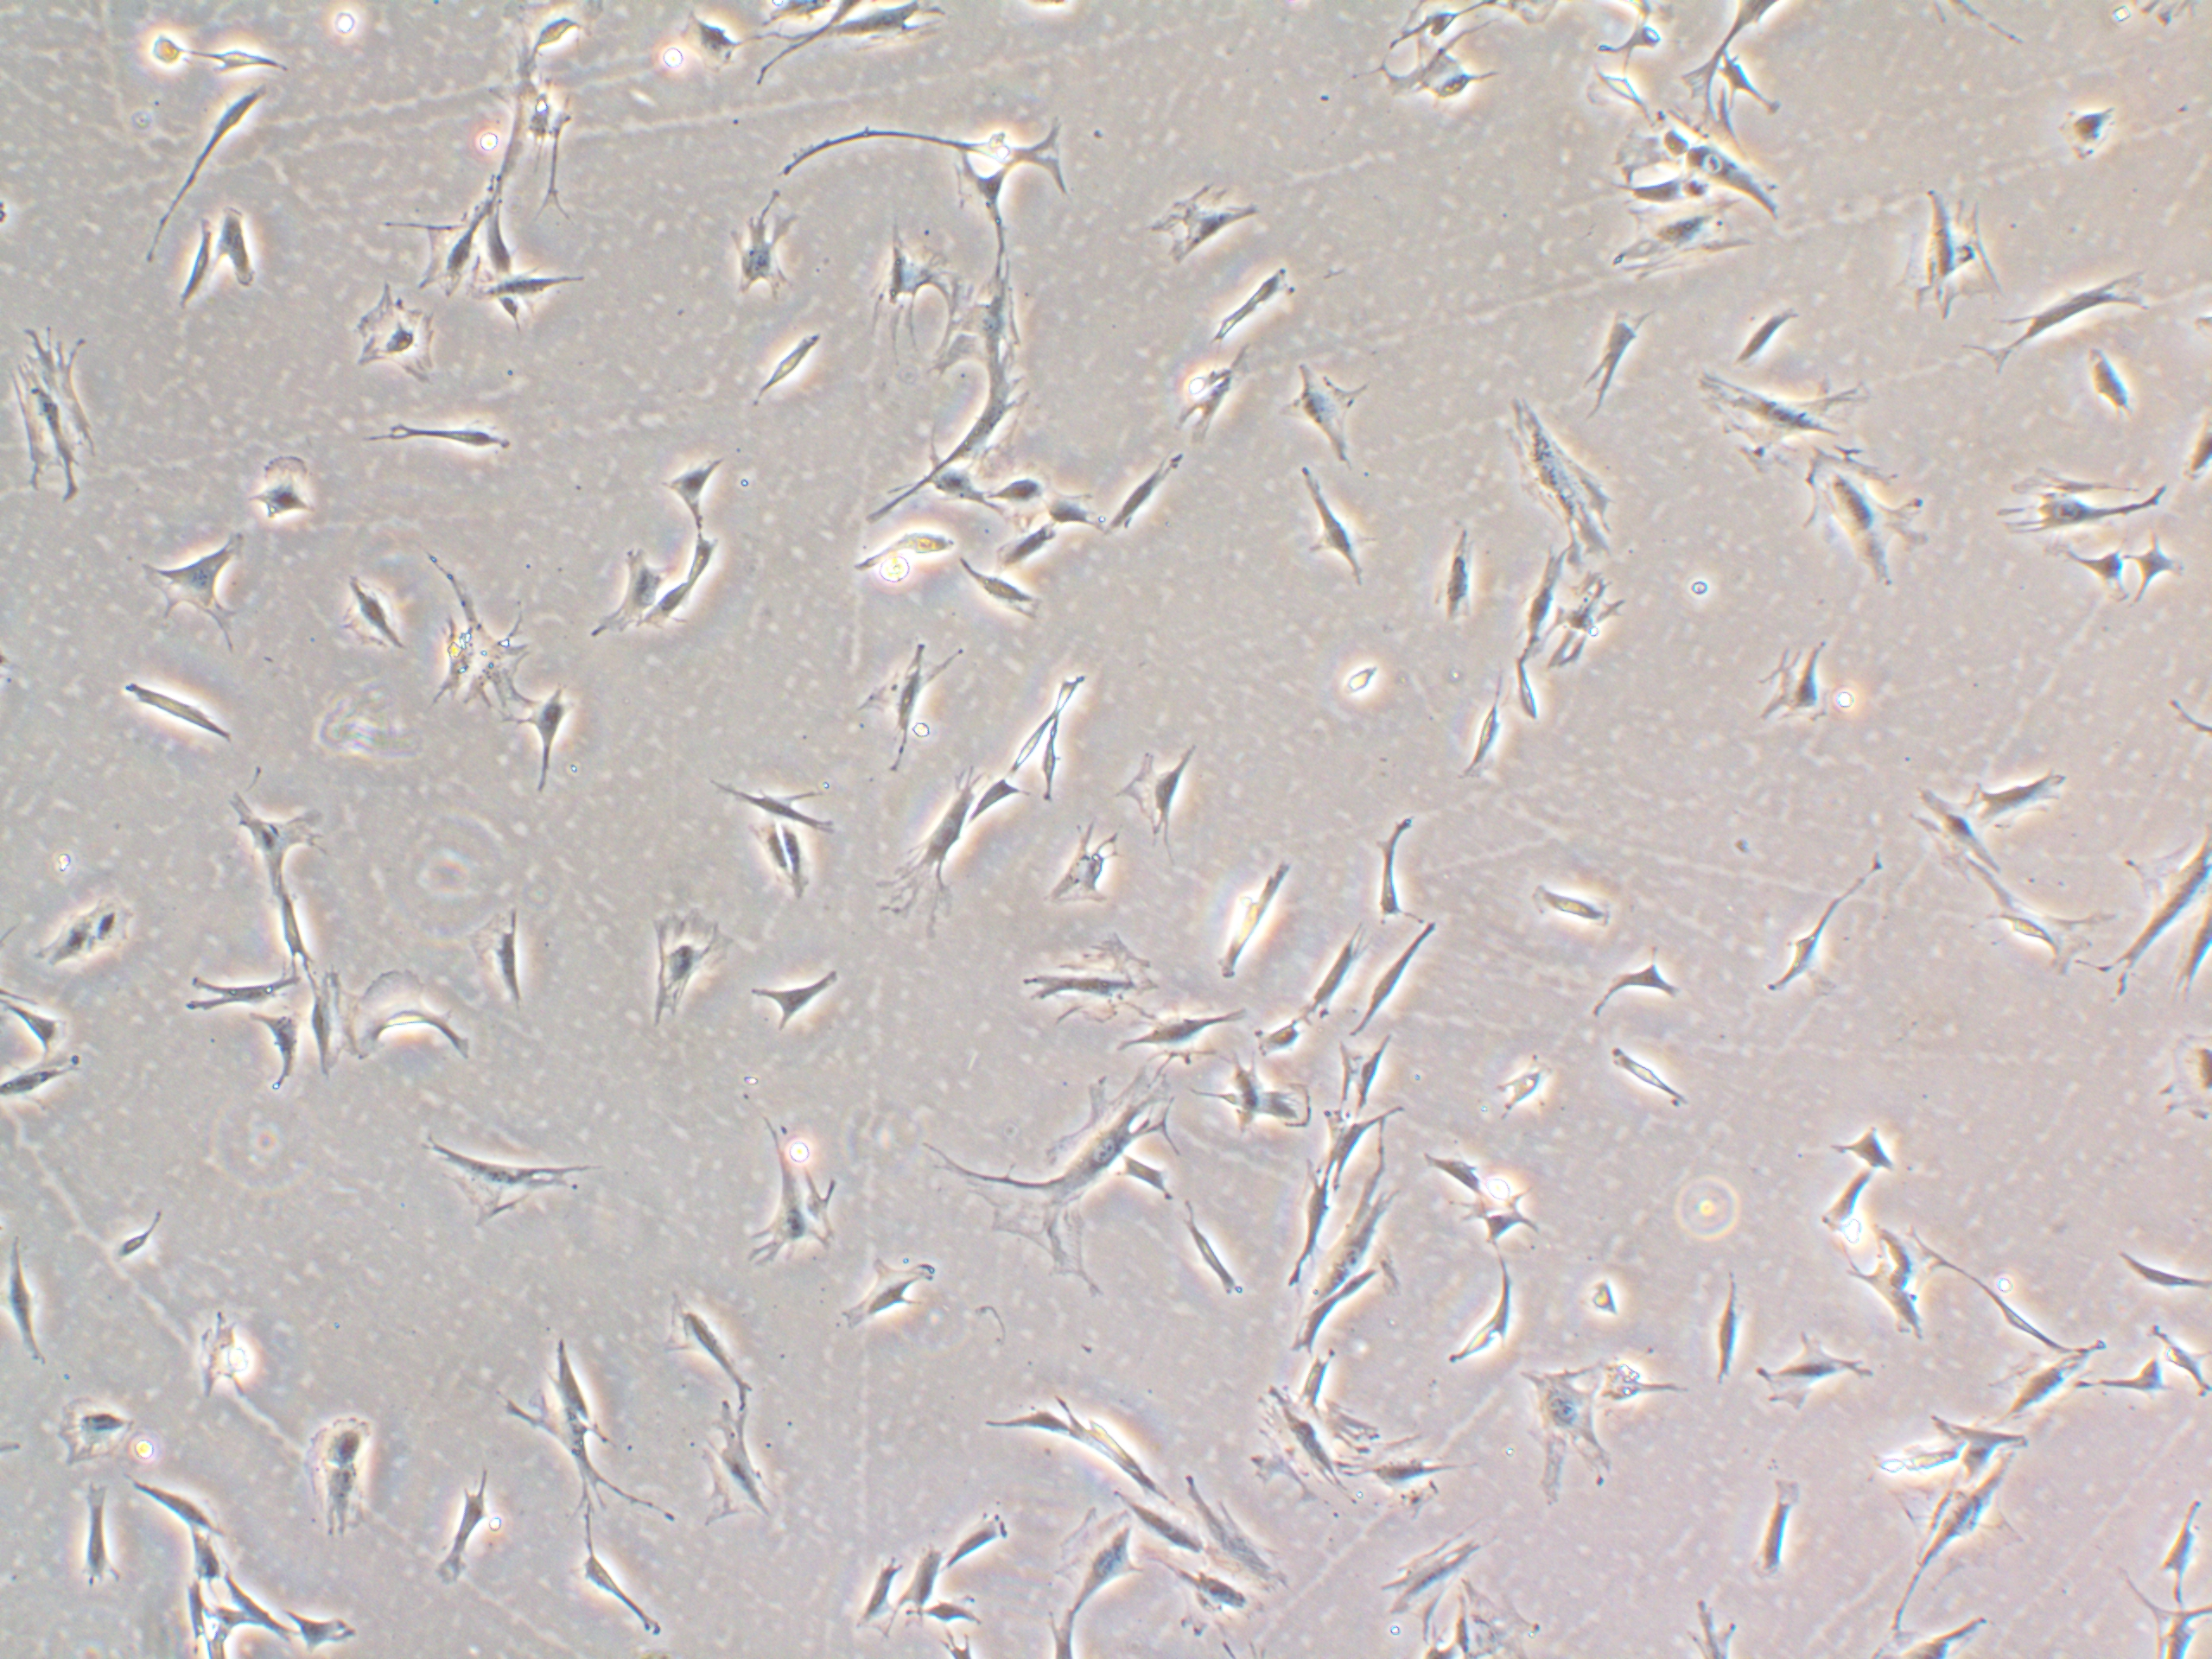polygonal: (122, 77, 284, 267), (509, 1340, 651, 1525), (1965, 260, 2158, 390), (1679, 373, 1900, 484), (857, 758, 984, 945), (1757, 845, 1898, 1012), (129, 521, 287, 667), (968, 1392, 1181, 1500), (1289, 1155, 1425, 1321), (2085, 836, 2212, 1009), (747, 113, 1075, 179), (1888, 1448, 2026, 1598), (314, 960, 482, 1082), (415, 1133, 599, 1244), (841, 633, 974, 786), (1977, 465, 2188, 561), (747, 1101, 860, 1272), (82, 660, 256, 763), (1271, 458, 1407, 589), (1109, 173, 1294, 268), (1890, 181, 2008, 328), (1973, 868, 2109, 993), (1106, 721, 1226, 861), (1353, 1521, 1493, 1640), (1191, 849, 1308, 990), (1169, 1481, 1298, 1608), (1602, 195, 1763, 289), (648, 1284, 772, 1405), (1341, 911, 1449, 1049), (1144, 1544, 1277, 1656), (214, 775, 340, 892), (1022, 932, 1158, 1039), (690, 760, 867, 838), (1846, 1222, 1946, 1361), (688, 1389, 770, 1556), (853, 216, 948, 361), (935, 253, 1045, 376), (361, 408, 526, 490), (1743, 1323, 1878, 1422), (1677, 117, 1804, 221), (456, 894, 542, 1047), (1435, 1239, 1531, 1373), (1965, 1246, 2074, 1363), (303, 1394, 388, 1544), (1103, 995, 1263, 1073), (1040, 1495, 1143, 1617), (1284, 1258, 1386, 1375), (829, 1244, 949, 1344), (1278, 349, 1374, 472), (1735, 1453, 1818, 1593), (1980, 1342, 2104, 1436), (711, 178, 808, 296), (503, 680, 590, 812), (564, 1544, 681, 1642), (1266, 1154, 1341, 1303), (434, 1455, 516, 1591), (1575, 948, 1707, 1032), (580, 533, 672, 652), (732, 314, 836, 418), (317, 561, 413, 673), (1548, 566, 1634, 688), (451, 247, 599, 317), (479, 35, 542, 197), (61, 1466, 138, 1598), (1047, 819, 1139, 929), (1508, 856, 1623, 943), (0, 1220, 64, 1375), (946, 549, 1059, 636), (1575, 300, 1665, 408), (1101, 436, 1191, 542), (1503, 530, 1573, 667), (169, 960, 314, 1026), (1103, 1478, 1212, 1565), (949, 155, 1028, 277), (895, 434, 996, 526), (1169, 1201, 1254, 1309), (115, 1471, 244, 1542), (1275, 927, 1371, 1023), (749, 945, 843, 1040), (2029, 537, 2137, 619), (240, 993, 319, 1103), (211, 197, 289, 307), (1447, 657, 1510, 793), (1305, 1096, 1411, 1173), (2076, 338, 2151, 443), (1357, 807, 1420, 931), (1911, 788, 1996, 878), (1724, 281, 1808, 373), (1975, 758, 2076, 833), (845, 1523, 907, 1642), (44, 1391, 132, 1474), (1425, 507, 1480, 638), (1709, 1265, 1757, 1413), (1604, 1040, 1698, 1117), (2099, 1234, 2212, 1297), (2149, 1485, 2205, 1612), (171, 199, 230, 317), (644, 450, 730, 532), (1815, 1112, 1919, 1178), (1456, 1187, 1557, 1255), (942, 1488, 1022, 1570), (0, 974, 85, 1051), (664, 10, 752, 84), (0, 1044, 98, 1110), (219, 1570, 296, 1654), (2130, 519, 2188, 629), (909, 1593, 1026, 1647), (263, 887, 333, 974), (1505, 633, 1555, 749), (1420, 1136, 1494, 1211), (888, 1528, 944, 1626), (472, 186, 521, 295), (989, 453, 1064, 523), (982, 512, 1068, 573), (1803, 1171, 1881, 1237), (738, 812, 791, 910), (2078, 1349, 2181, 1396), (961, 765, 1035, 829), (1033, 477, 1103, 540), (784, 814, 827, 911), (676, 530, 730, 592)
small-round: (1573, 1272, 1632, 1330), (1336, 652, 1392, 708)
spread: (913, 1047, 1190, 1284), (1498, 389, 1639, 566), (1796, 453, 1959, 596), (14, 314, 125, 505), (634, 899, 763, 1035), (1514, 1349, 1611, 1511), (341, 272, 442, 382)
